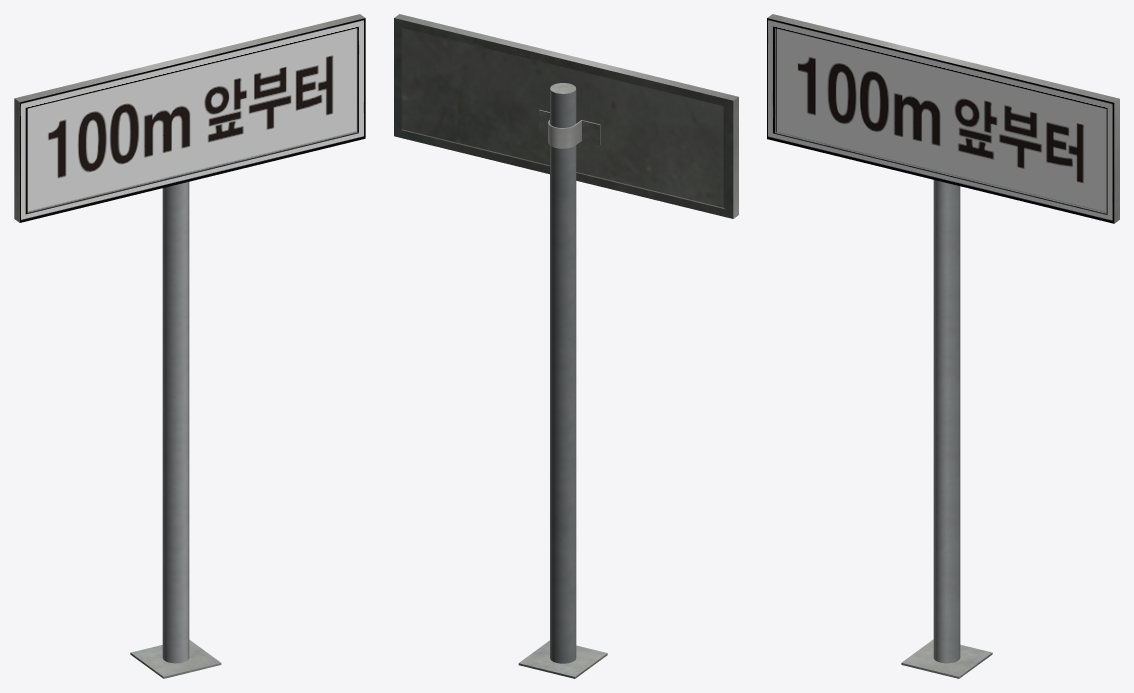
The picture shows the model from 3 angles, left to right: view 1: azimuth 30°, elevation 25°; view 2: azimuth 150°, elevation 25°; view 3: azimuth 330°, elevation 25°; orthographic projection. The views are drawn at different scales.
Parts seen in each view (by area): view 1: MainBuilding; view 2: MainBuilding; view 3: MainBuilding.
Part boxes in pixels (left/top/right/bottom): MainBuilding: left=14, top=14, right=365, bottom=678; MainBuilding: left=394, top=14, right=738, bottom=678; MainBuilding: left=767, top=14, right=1119, bottom=678.
Size of the model in its own units: 0.9 by 1.51 by 0.15.
Materials: 1 (1 with a texture image).
